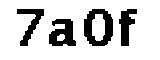0: (81, 7, 118, 52)
7: (10, 5, 47, 50)
a: (49, 17, 77, 51)
f: (117, 5, 143, 50)
